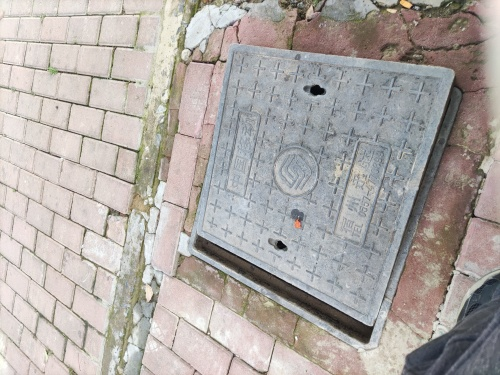uncovered: (187, 41, 472, 349)
